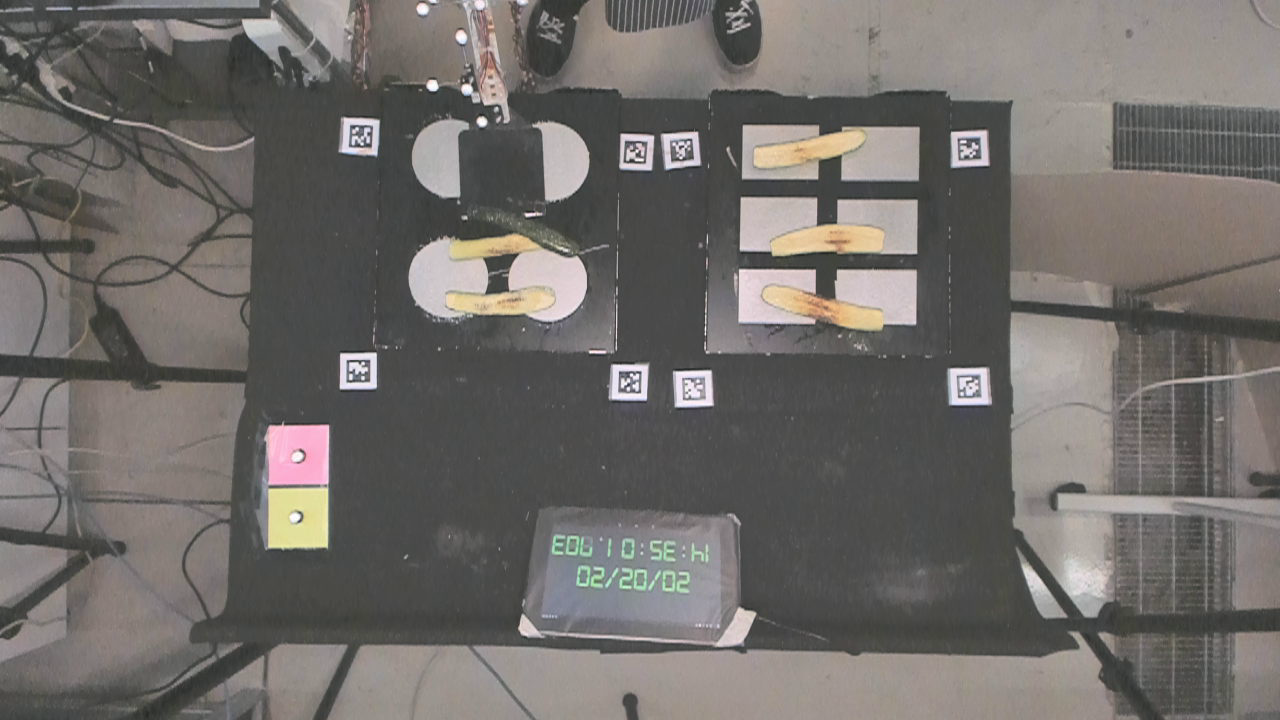marker: (270, 426, 329, 485)
zucchini: (760, 278, 887, 337), (466, 203, 589, 261), (749, 128, 872, 170), (765, 223, 887, 261), (441, 282, 561, 316), (450, 223, 542, 265)
